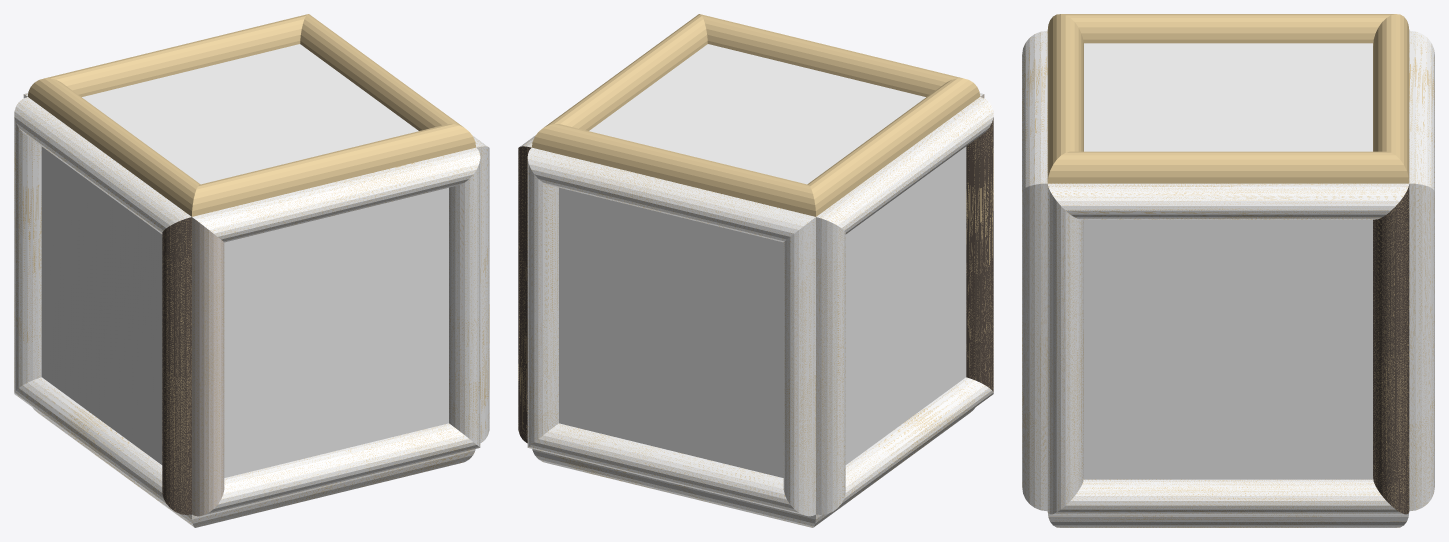
3 views of the same model, side by side, from view 1: azimuth 30°, elevation 25°; view 2: azimuth 150°, elevation 25°; view 3: azimuth 270°, elevation 25° (orthographic). The views are drawn at different scales.
Parts seen in each view (by area): view 1: picture frame cube; view 2: picture frame cube; view 3: picture frame cube.
Boxes of the visible parts, x1,y1,x2,y2 form: picture frame cube: (14,14,489,527); picture frame cube: (518,14,993,527); picture frame cube: (1022,14,1434,527).
Size of the model in its own units: 14.21 by 14.21 by 14.21.
